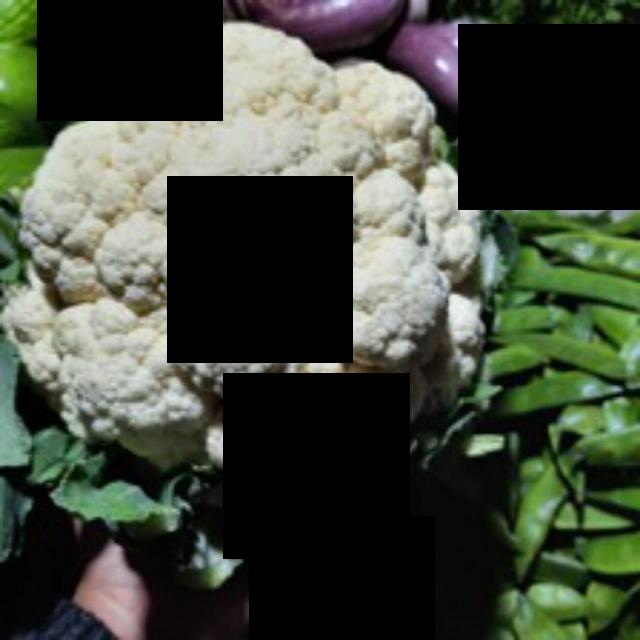cauliflower: (15, 28, 482, 484)
